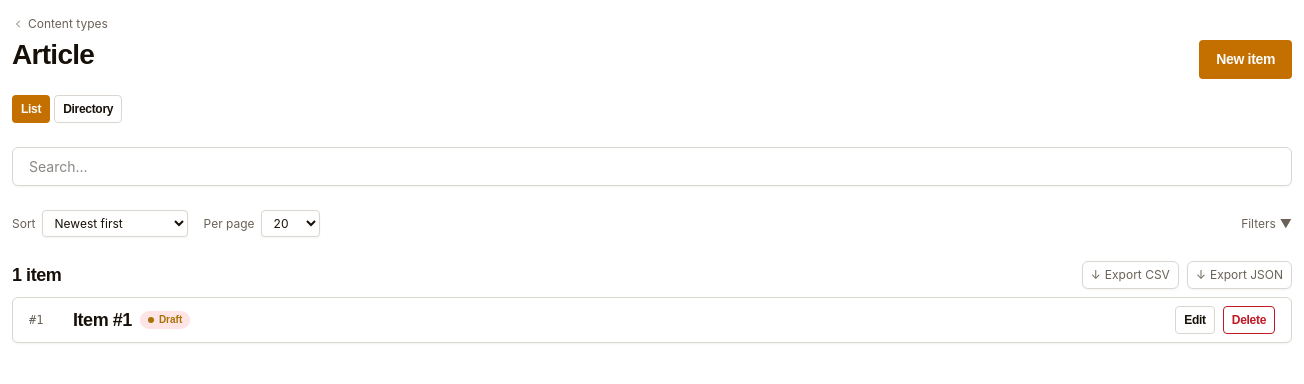
EntityRecordsPage › reflects the search query in the URL when typing
Type "hello" into the search field labelled "Search…". click: {"x": 652, "y": 166}
box: 12,147 -> 1292,186
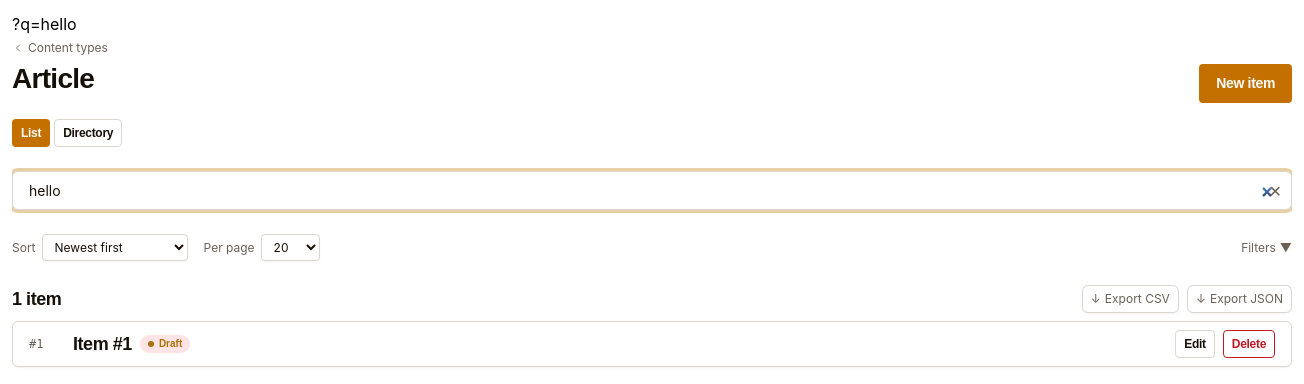
Expected: the text with test id "location-search" shows "q=hello", 12,14 -> 77,34
